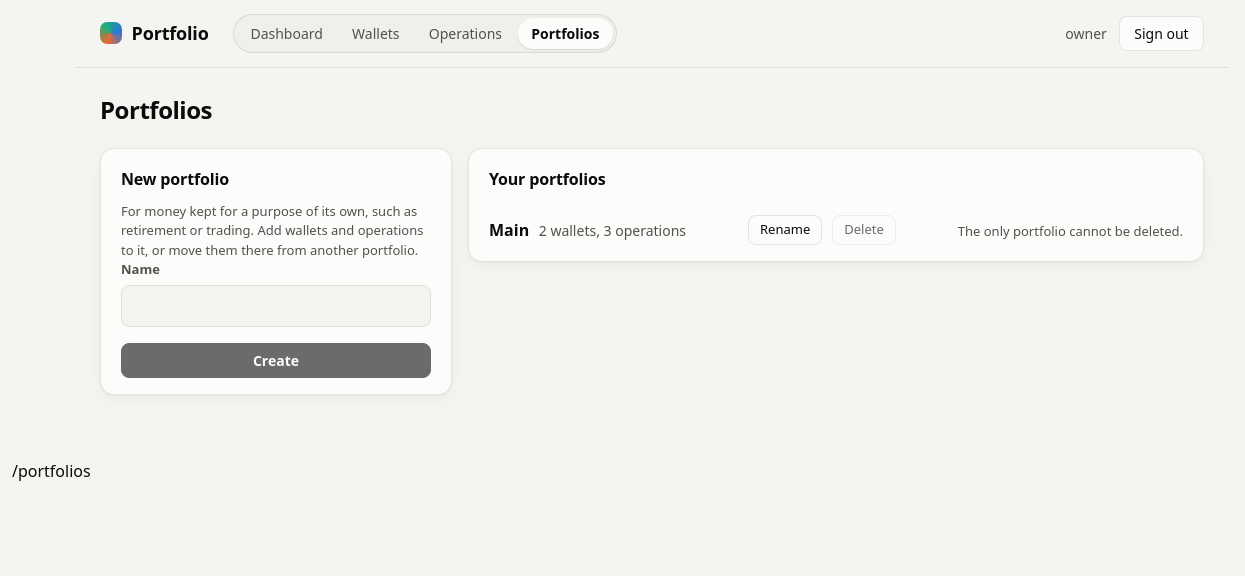
Test: the Portfolios page › creates, renames and deletes a portfolio
The image size is (1245, 576).
Expected: the text "2 wallets, 3 operations" is shown, [539,220,686,241]
Type "  Retirement " into the field labelled "Name" at (276, 306), box [121,285,431,327]
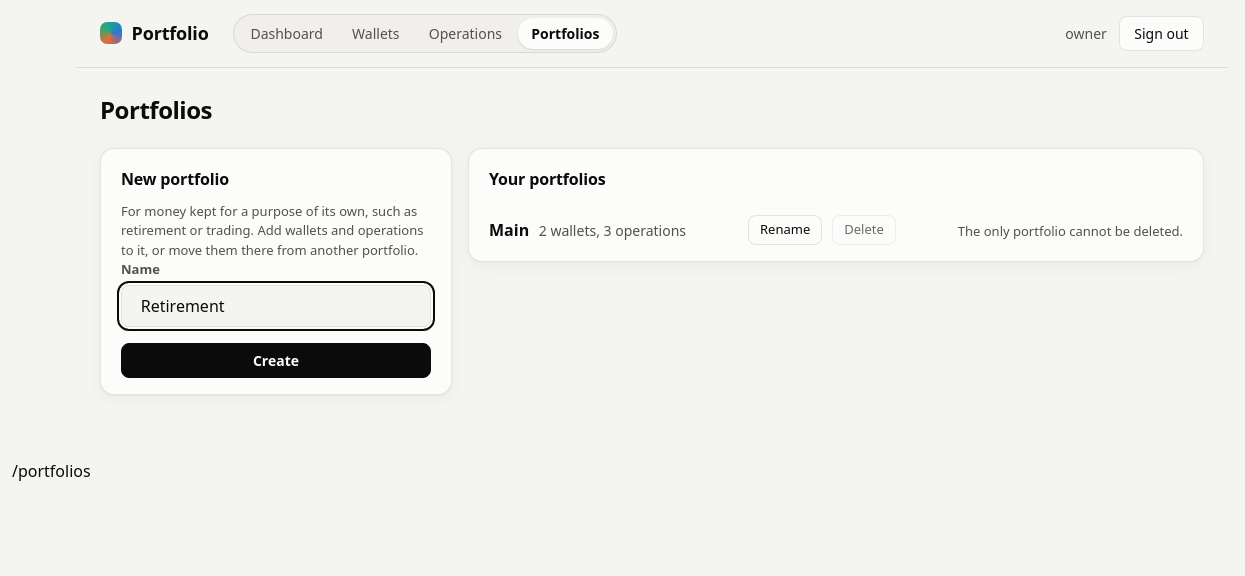
Click the button "Create" at (276, 360), box [121,343,431,378]
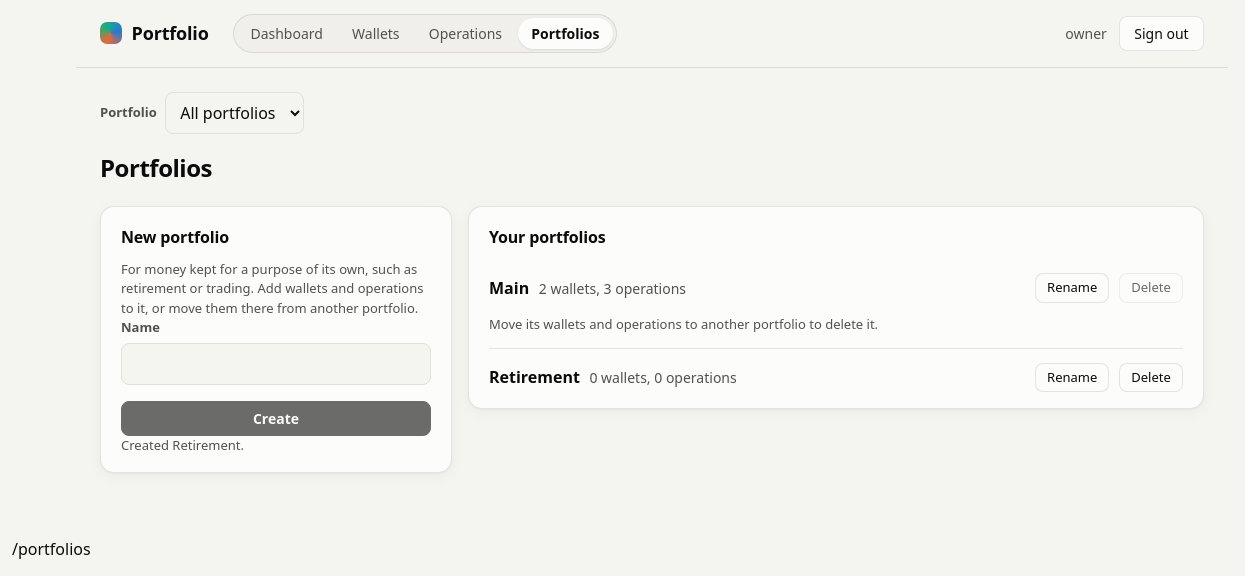
Now the text "Created Retirement." is shown, box [121,436,244,454]
Click the button with aria-label "Rename Retirement" at (1072, 377), box [1035,362,1110,392]
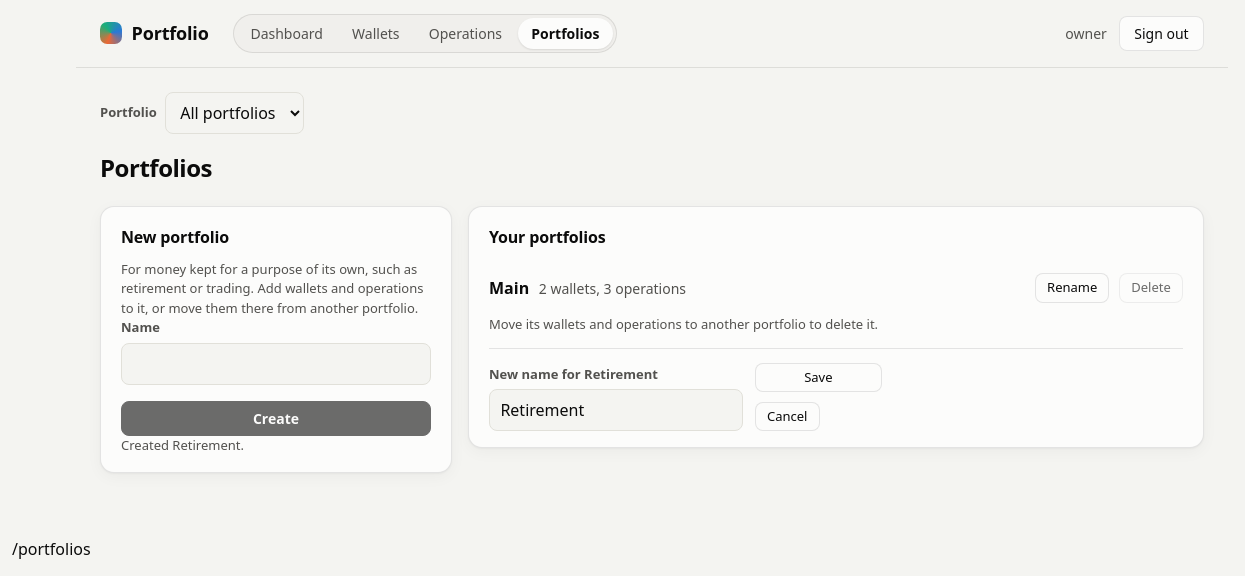
Replace the text in the field labelled "New name for Retirement" with "Pension" at (616, 410), box [489,389,743,431]
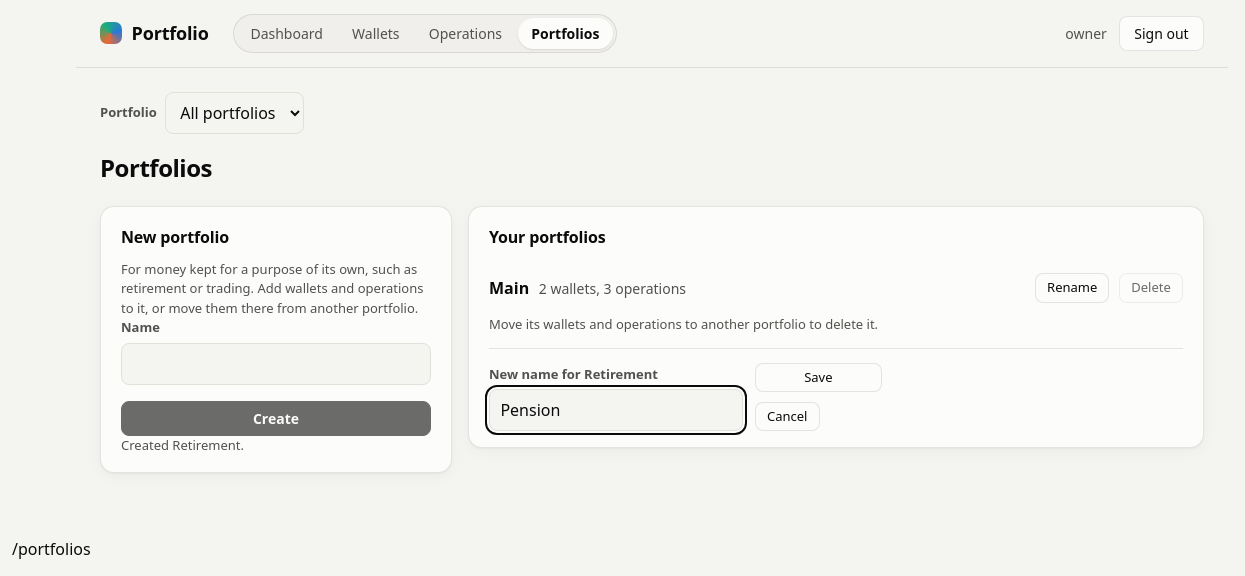
Click the button "Save" at (818, 377), box [755,362,882,392]
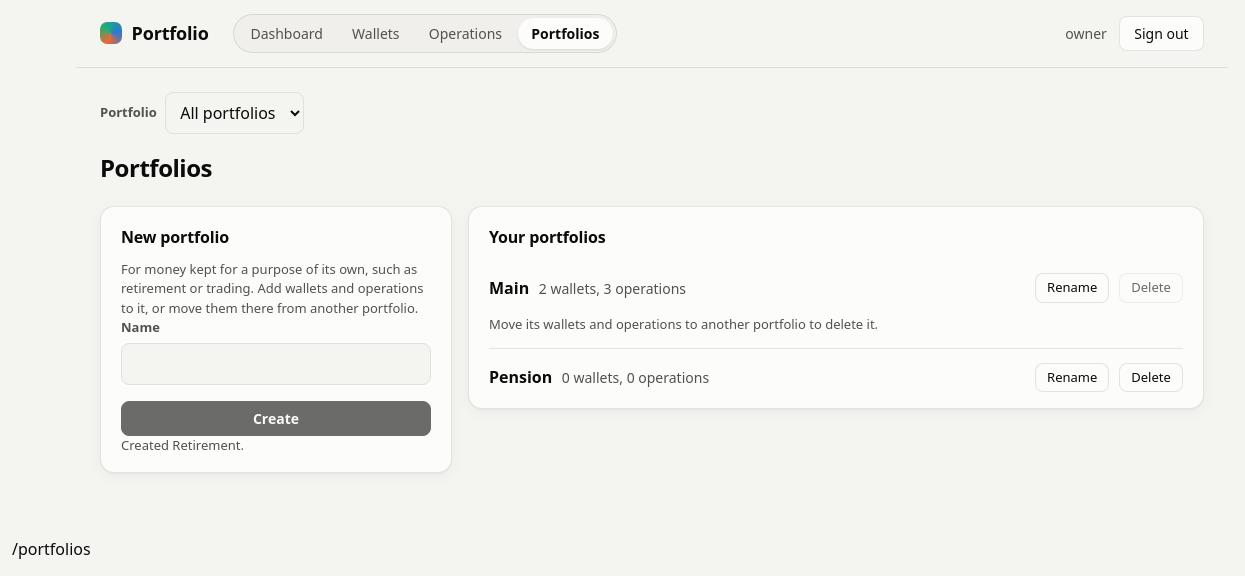
Click the button with aria-label "Delete Pension" at (1151, 377), box [1119,362,1183,392]
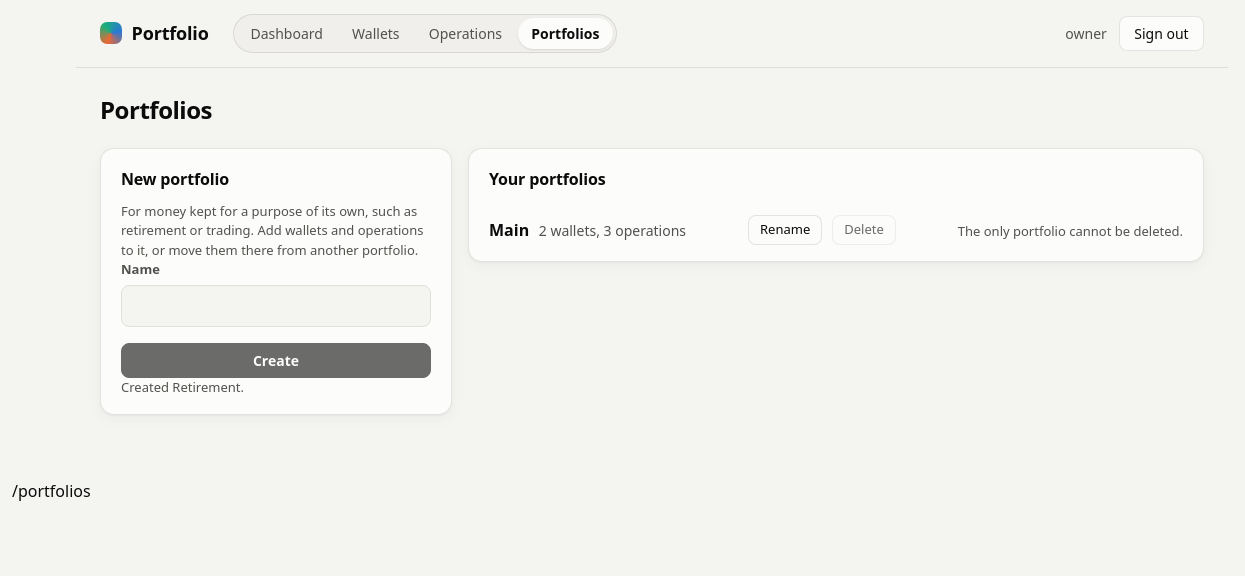
Now the text "Pension" is gone
